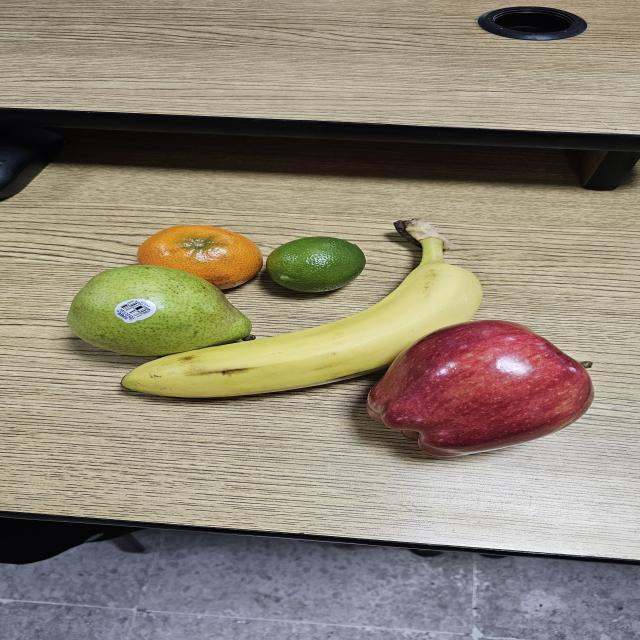Apel Merah: (356, 317, 604, 460)
Jeruk Mandarin: (125, 223, 269, 293)
Lemon: (254, 232, 380, 296)
Pir: (49, 264, 264, 358)
Pisang: (108, 210, 492, 404)
